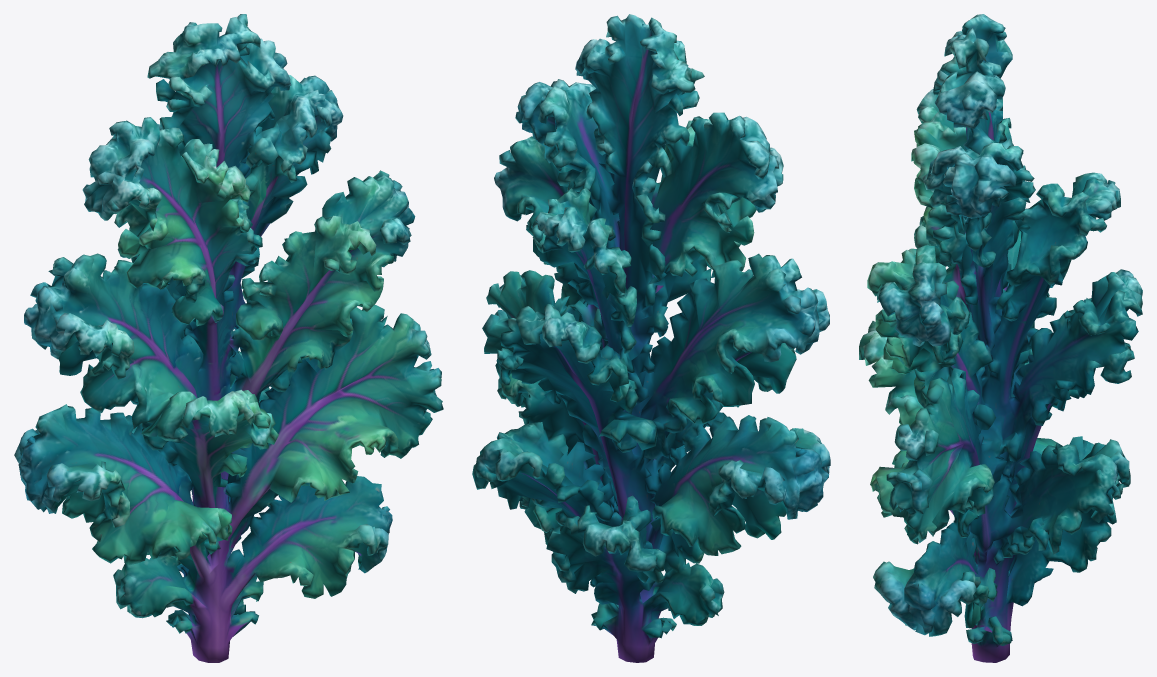
Rendered from crop_kale.glb.
The picture shows the model from 3 angles, left to right: view 1: azimuth 30°, elevation 25°; view 2: azimuth 150°, elevation 25°; view 3: azimuth 270°, elevation 25°; orthographic projection.
Visible parts, largest first — view 1: tripo_node_45db8575-b468-4b2a-83a1-5fa144a0220a; view 2: tripo_node_45db8575-b468-4b2a-83a1-5fa144a0220a; view 3: tripo_node_45db8575-b468-4b2a-83a1-5fa144a0220a.
Boxes of the visible parts, x1,y1,x2,y2 form: tripo_node_45db8575-b468-4b2a-83a1-5fa144a0220a: [14, 14, 443, 662]; tripo_node_45db8575-b468-4b2a-83a1-5fa144a0220a: [472, 14, 830, 662]; tripo_node_45db8575-b468-4b2a-83a1-5fa144a0220a: [859, 14, 1142, 662].
Size of the model in its own units: 0.5997 by 0.9791 by 0.3966.
Materials: 1 (1 with a texture image).
